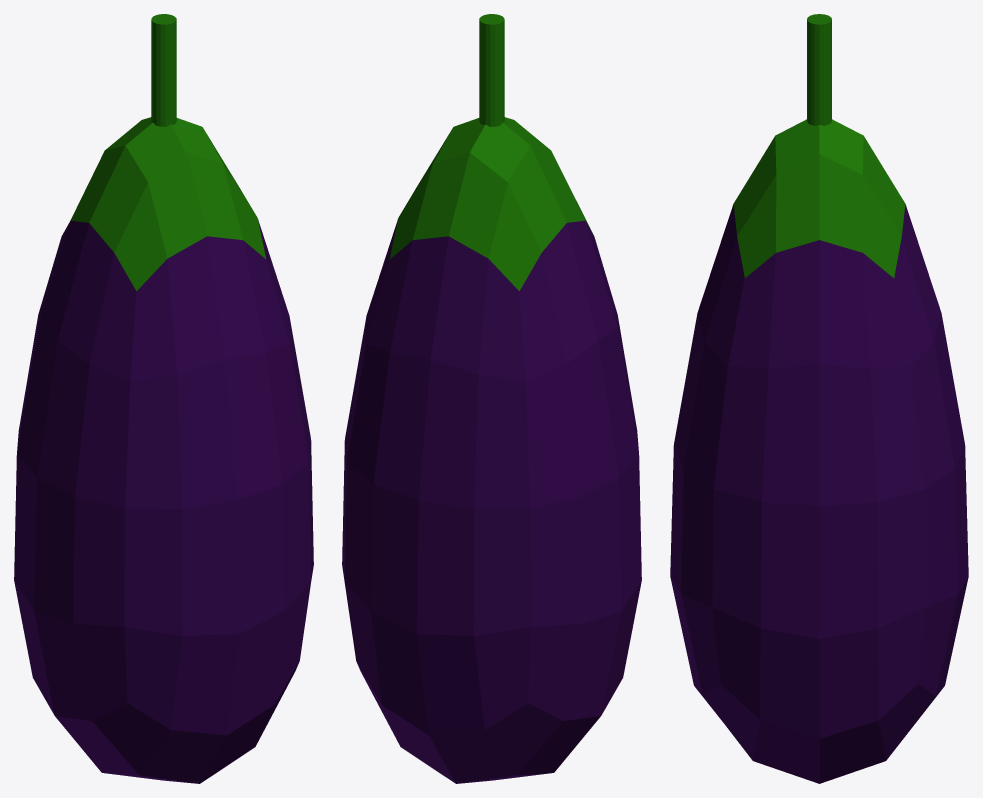
File: eggPlant.fbx
The picture shows the model from 3 angles, left to right: view 1: azimuth 30°, elevation 25°; view 2: azimuth 150°, elevation 25°; view 3: azimuth 270°, elevation 25°; orthographic projection.
Visible parts, largest first — view 1: Cylinder; view 2: Cylinder; view 3: Cylinder.
Boxes of the visible parts, x1,y1,x2,y2 form: Cylinder: [14, 14, 313, 783]; Cylinder: [342, 14, 641, 783]; Cylinder: [670, 14, 968, 783].
Size of the model in its own units: 121 by 339 by 121.
